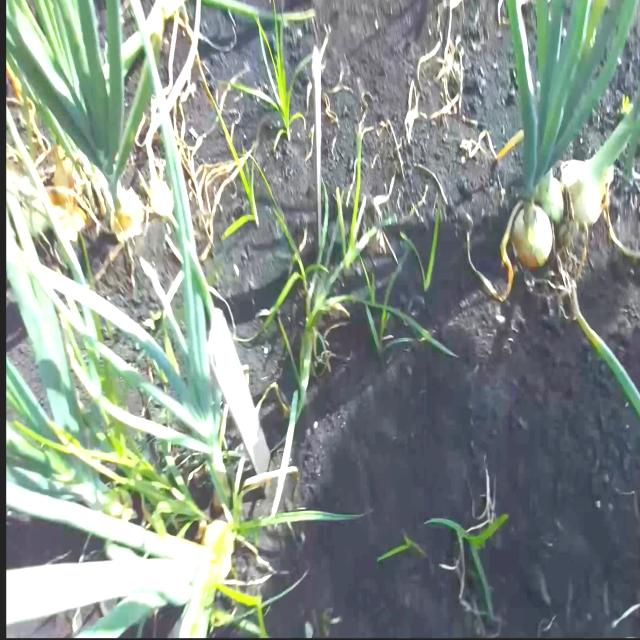onion: (510, 200, 553, 269), (535, 168, 565, 224)
